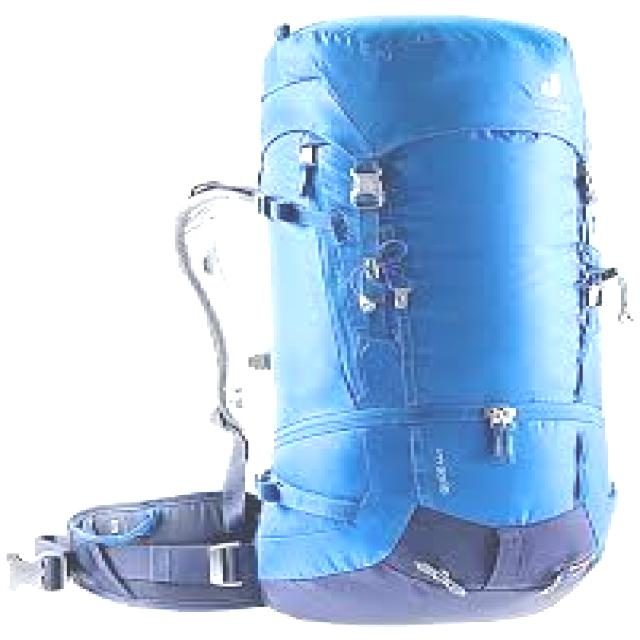backpack: (8, 12, 632, 626)
